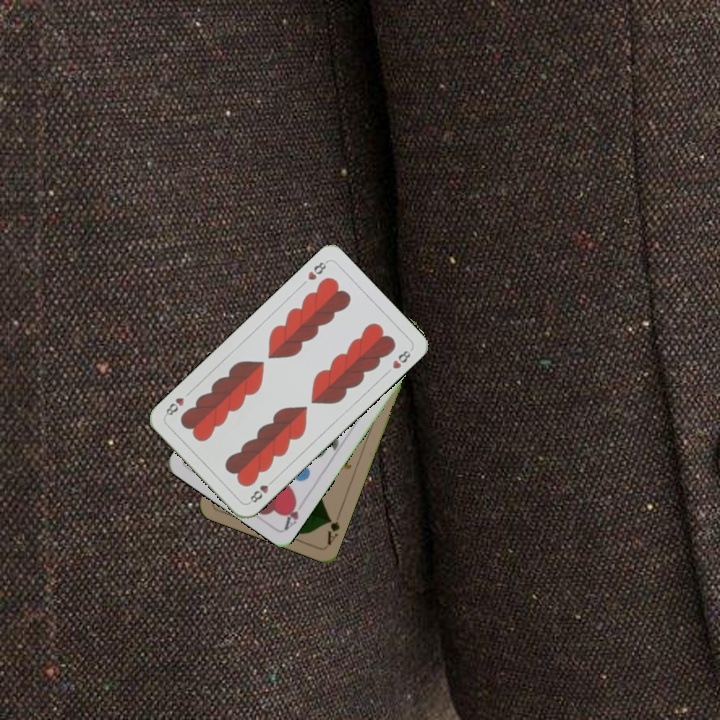GA: (323, 514, 342, 548)
H8: (246, 475, 277, 506), (304, 257, 331, 283)
HA: (280, 494, 308, 532)
